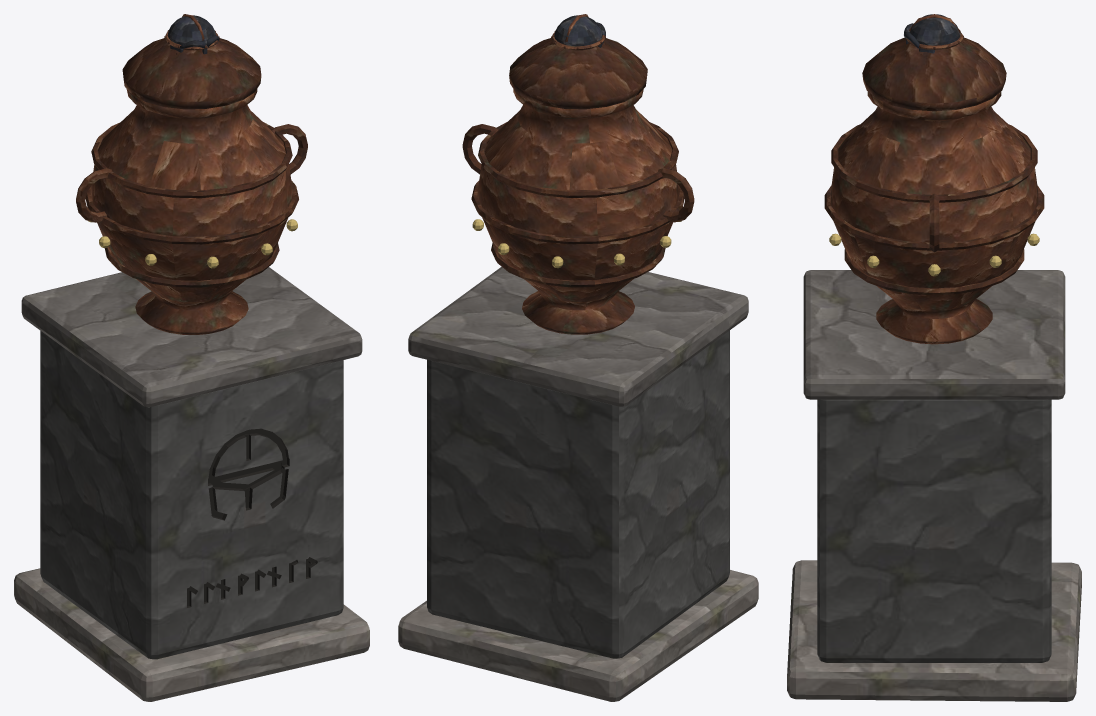
Rendered from th_ash_urn.glb.
3 views of the same model, side by side, from view 1: azimuth 30°, elevation 25°; view 2: azimuth 150°, elevation 25°; view 3: azimuth 270°, elevation 25° (orthographic). The views are drawn at different scales.
Visible parts, largest first — view 1: model; view 2: model; view 3: model.
Boxes of the visible parts, x1,y1,x2,y2 form: model: [14, 14, 369, 701]; model: [398, 14, 758, 701]; model: [787, 14, 1081, 701].
Size of the model in its own units: 0.614 by 1.55 by 0.6539.
8 materials, 6 textured.
